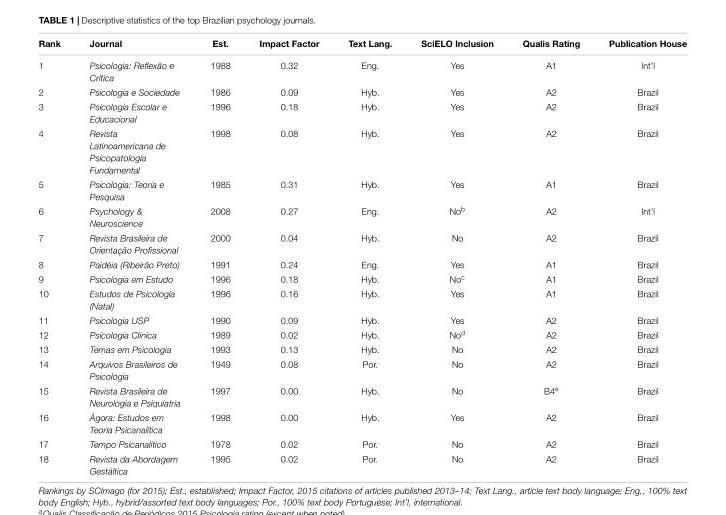table: (37, 37, 686, 475)
table column: (74, 37, 194, 475), (405, 37, 507, 475), (593, 37, 686, 475), (244, 37, 333, 475), (507, 37, 593, 475), (333, 37, 405, 475), (194, 37, 244, 475), (37, 37, 74, 475)
table column header: (37, 37, 686, 53)
table row: (37, 125, 686, 176), (37, 53, 686, 84), (37, 98, 686, 125), (37, 202, 686, 229), (37, 229, 686, 256), (37, 285, 686, 312), (37, 382, 686, 409), (37, 409, 686, 436), (37, 176, 686, 202), (37, 356, 686, 382), (37, 450, 686, 475), (37, 37, 686, 53), (37, 270, 686, 285), (37, 326, 686, 341), (37, 341, 686, 356), (37, 84, 686, 98), (37, 256, 686, 270), (37, 312, 686, 326), (37, 436, 686, 450)
